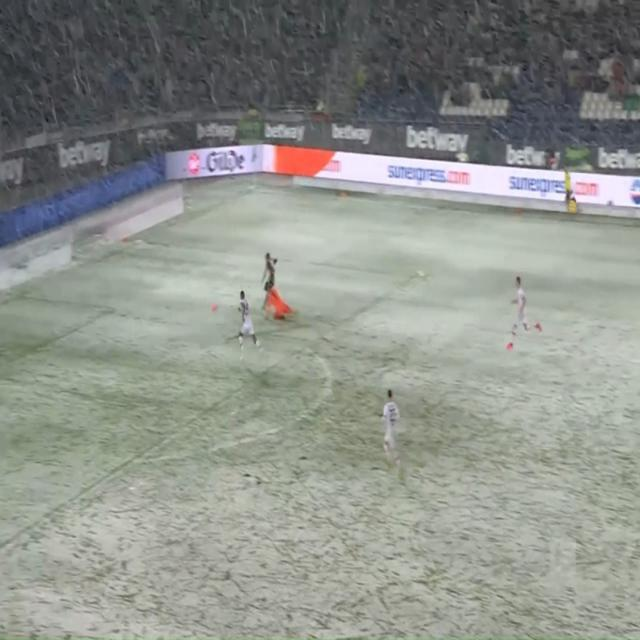ball: (208, 300, 220, 315)
player: (502, 268, 543, 355), (374, 383, 404, 473), (233, 287, 263, 365), (258, 279, 299, 331), (262, 241, 277, 289)
referee: (560, 163, 580, 218)
